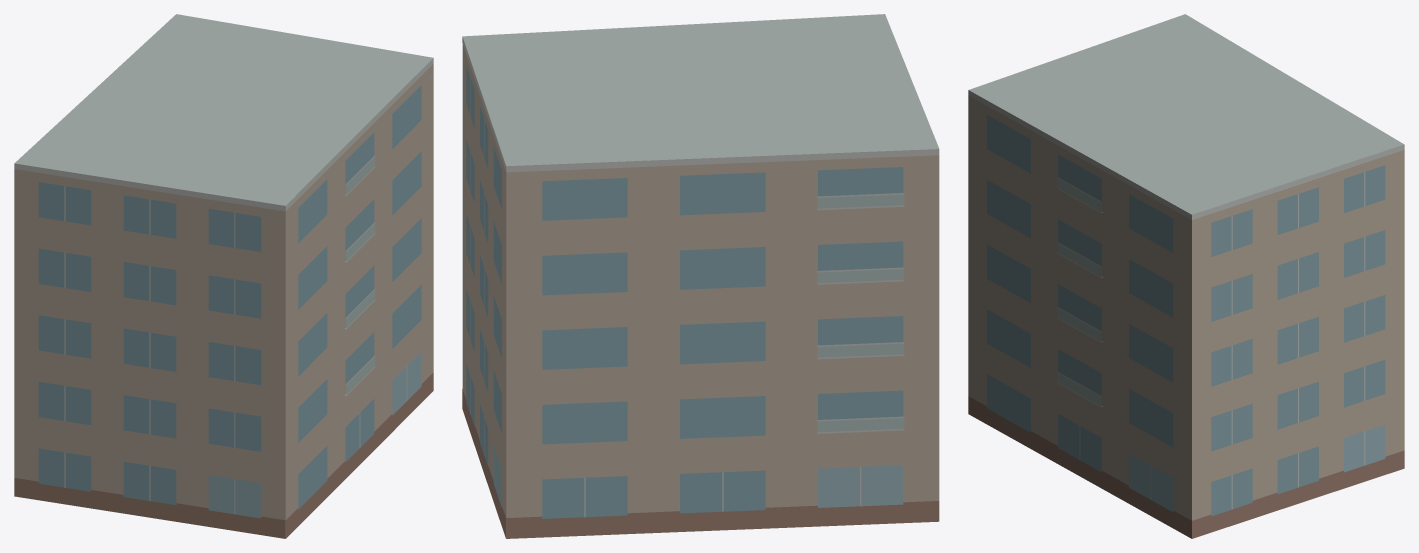
Rendered from survey-upis-32726589.glb.
3 views of the same model, side by side, from view 1: azimuth 30°, elevation 25°; view 2: azimuth 150°, elevation 25°; view 3: azimuth 270°, elevation 25° (orthographic). The views are drawn at different scales.
Parts seen in each view (by area): view 1: survey-upis-32726589.tmp; view 2: survey-upis-32726589.tmp; view 3: survey-upis-32726589.tmp.
Part boxes in pixels (left/top/right/bottom): survey-upis-32726589.tmp: left=14, top=14, right=433, bottom=538; survey-upis-32726589.tmp: left=462, top=14, right=939, bottom=538; survey-upis-32726589.tmp: left=968, top=14, right=1404, bottom=538.
Bounding box in the file's own units: 19.41 × 14.6 × 17.81.
